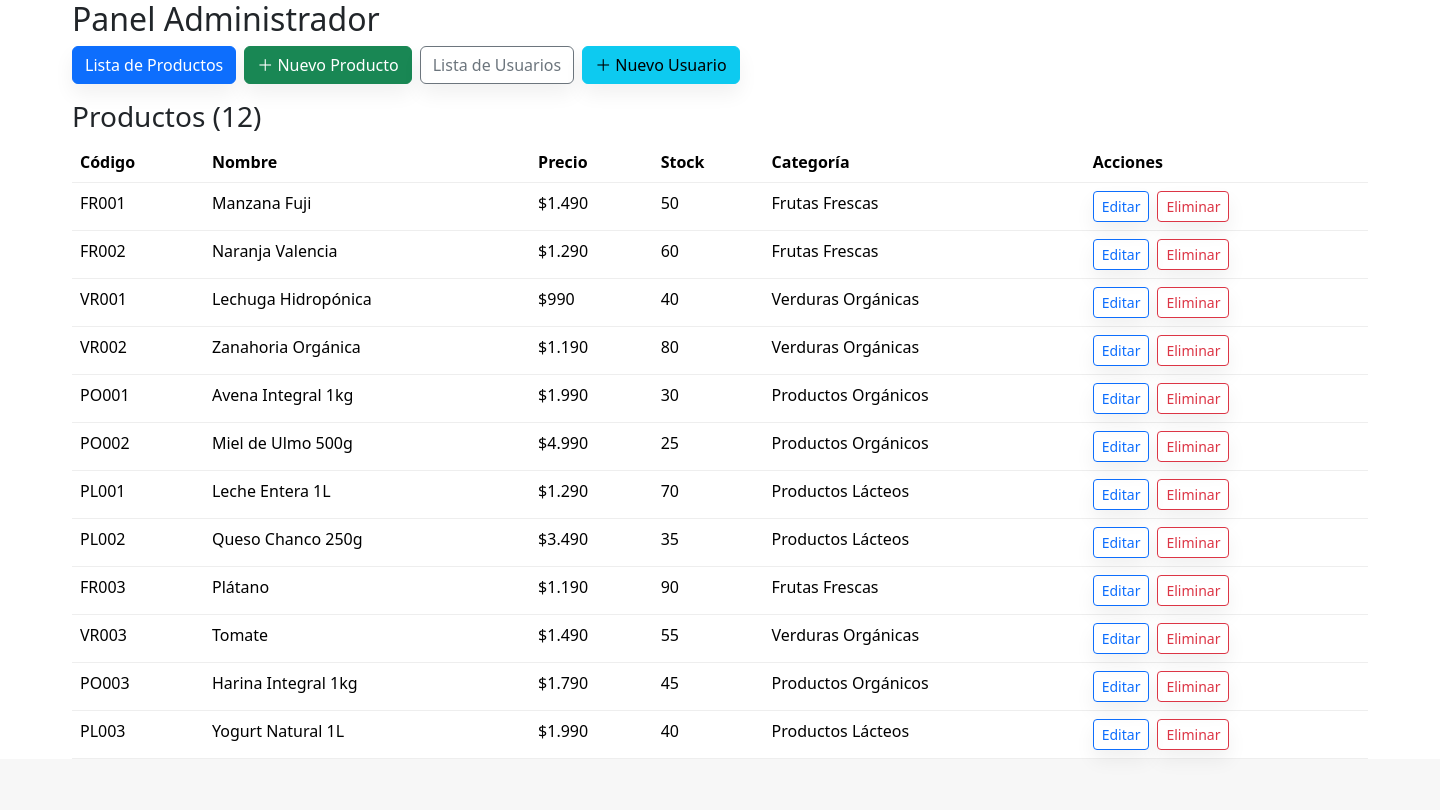
Admin Component (Vitest) › muestra error si intento guardar usuario nuevo sin campos requeridos
Click the button "＋ Nuevo Usuario" at (661, 65), box [582,46,740,84]
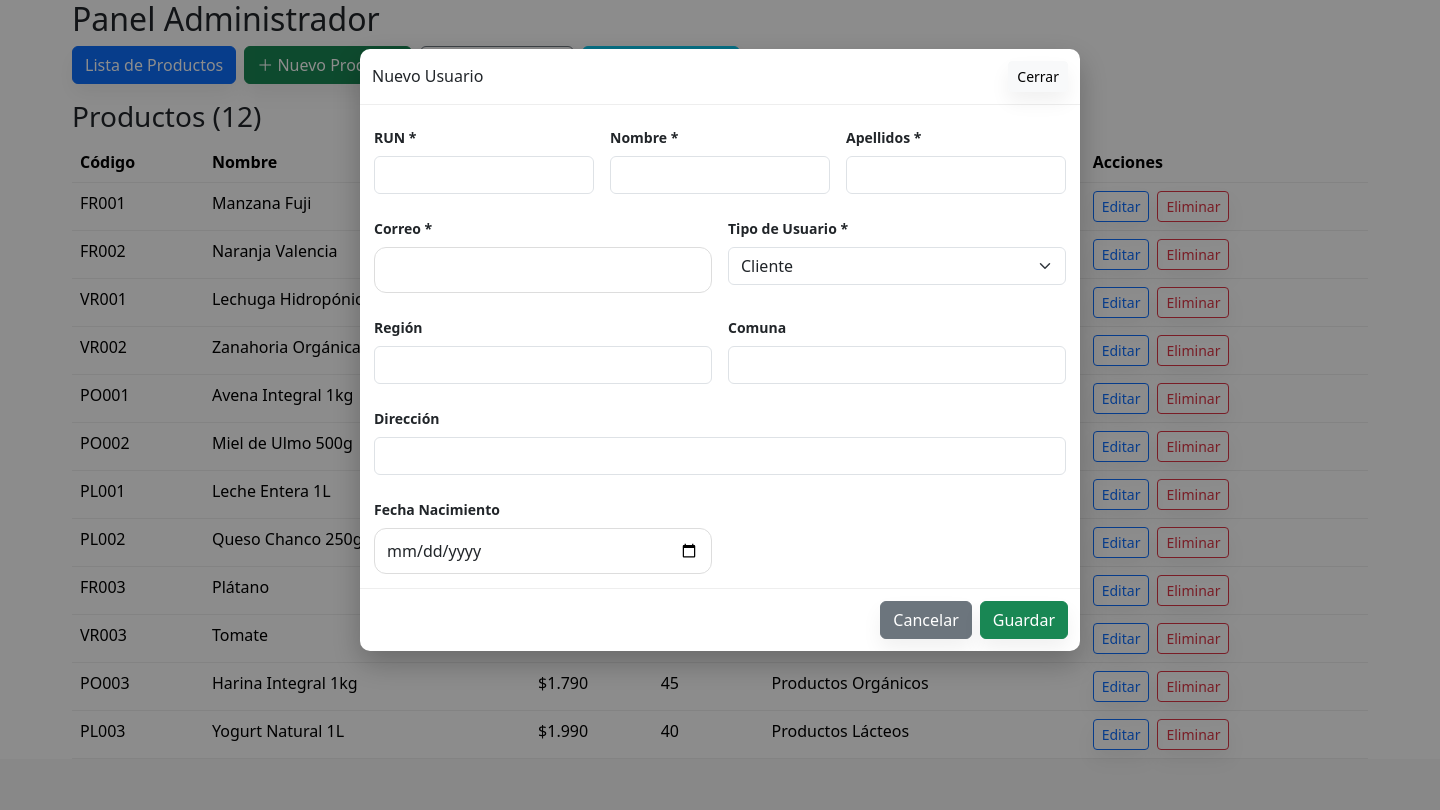
Now the dialog is shown, box [360,49,1080,651]
Click the button "Guardar" at (1024, 620), box [980,601,1068,639]
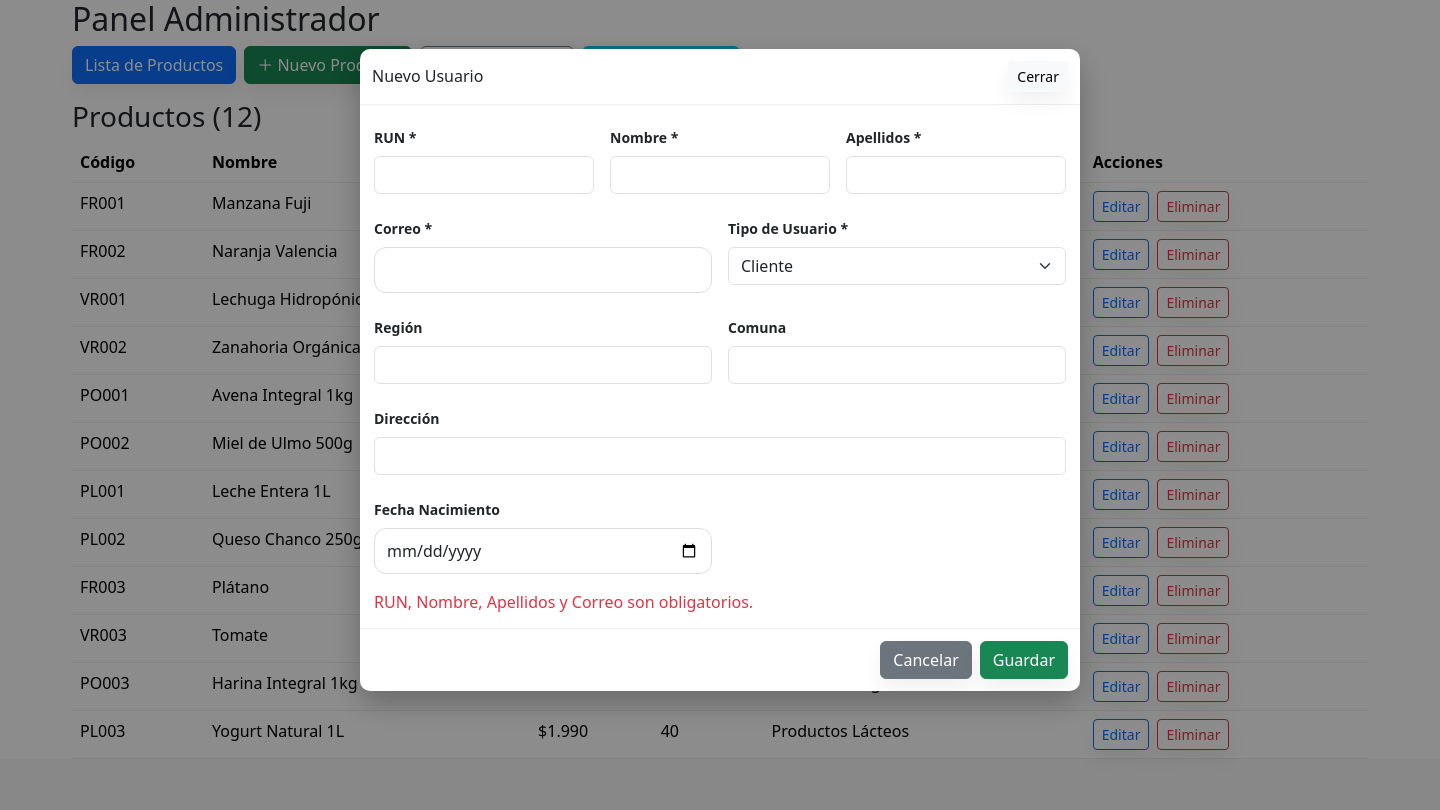
Now the text "RUN, Nombre, Apellidos y Correo son obligatorios." is shown, box [374,591,753,613]
